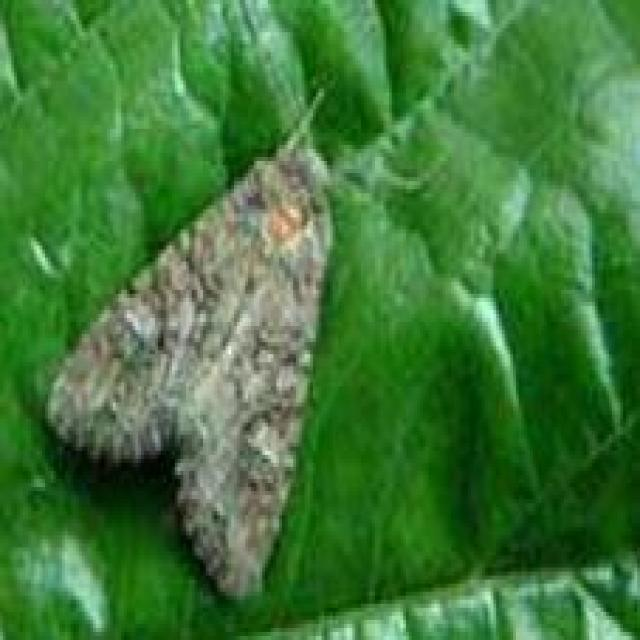armyworm: (38, 59, 366, 619)
